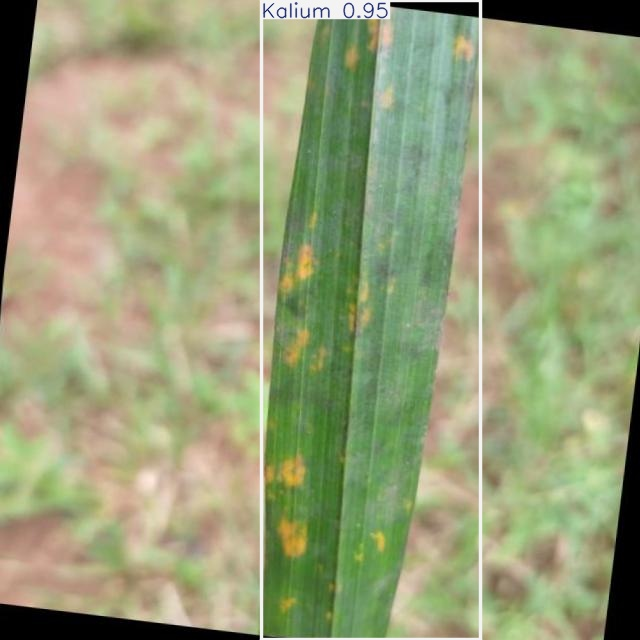Kalium: (261, 0, 480, 640)
